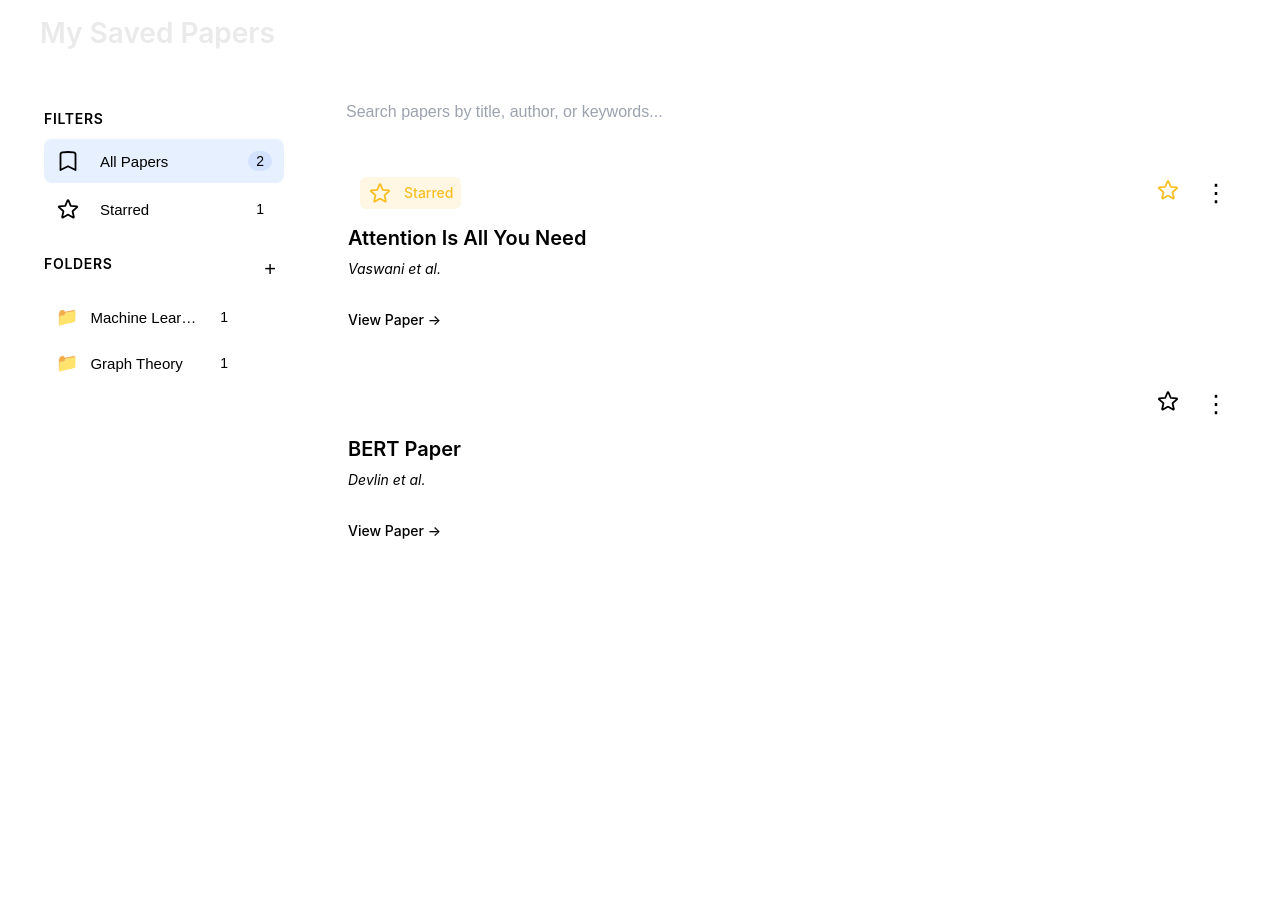
Scenario: PersonalPage › folder creation › should open folder creation modal
Step 1. Click the button titled "Create folder" → point(270, 270), box [256, 256, 284, 284]
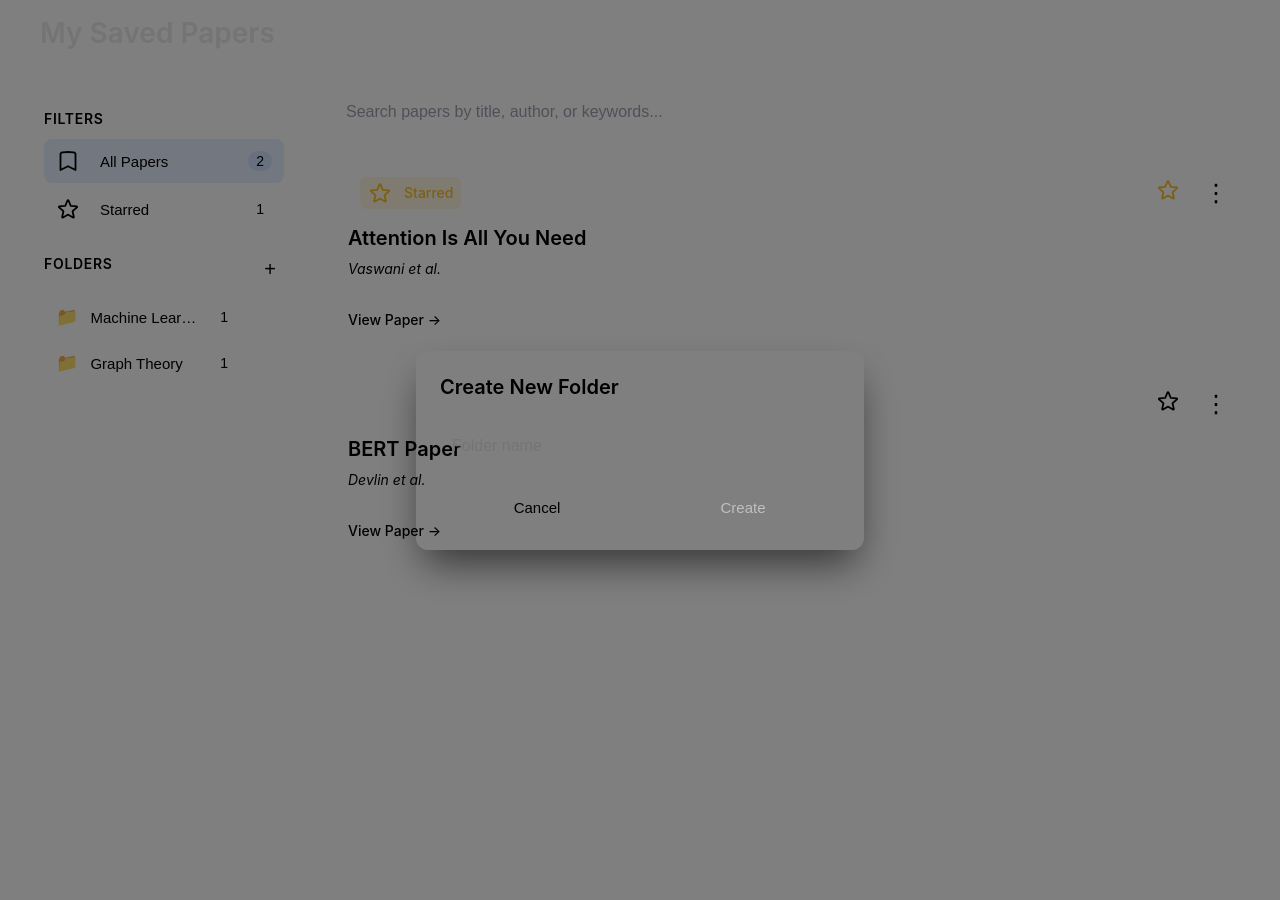
Expected: the heading "Create New Folder" is shown, [440, 374, 619, 398]
